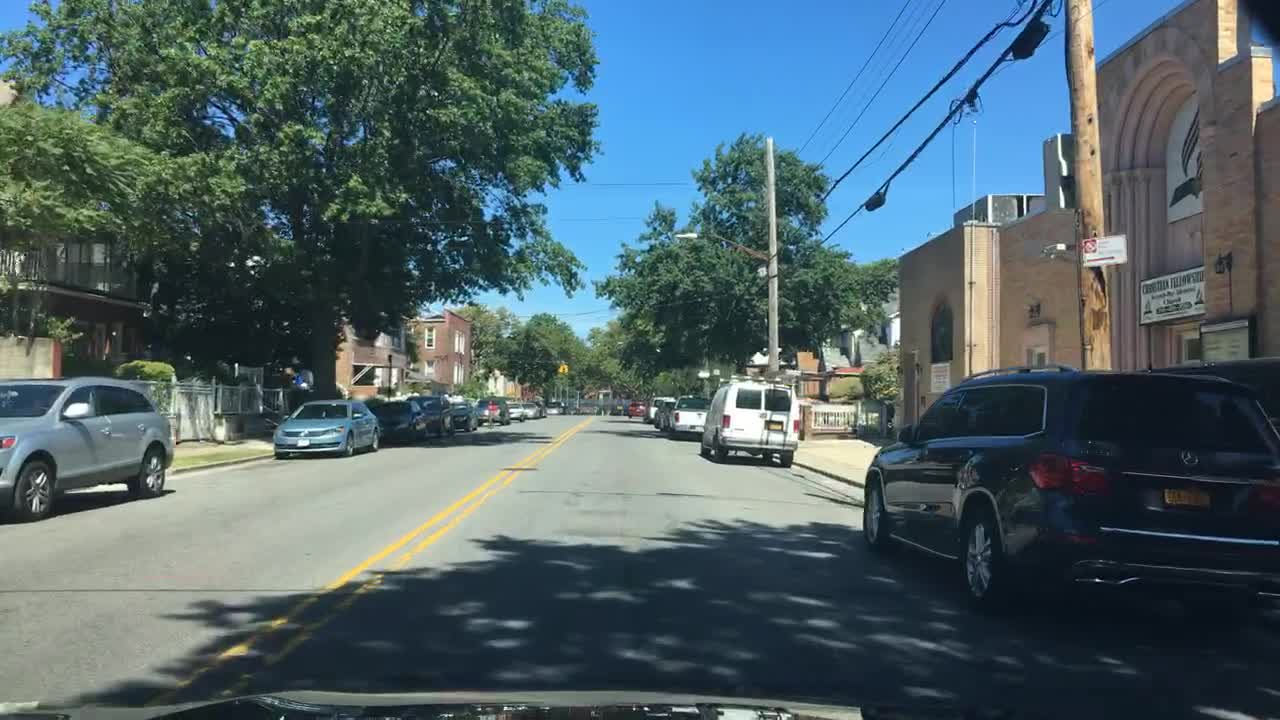car: (862, 367, 1277, 618), (0, 378, 174, 524), (699, 384, 800, 463), (272, 400, 380, 457), (362, 399, 429, 444), (405, 394, 457, 438), (668, 395, 713, 437), (445, 400, 479, 433), (473, 395, 511, 424), (652, 398, 677, 432), (645, 395, 674, 422), (517, 400, 541, 421), (501, 402, 525, 422), (626, 399, 646, 420), (539, 400, 561, 416), (608, 402, 628, 417)
person: (485, 399, 496, 427), (298, 379, 310, 396)
traffic sign: (1083, 235, 1127, 266), (557, 362, 569, 371)
